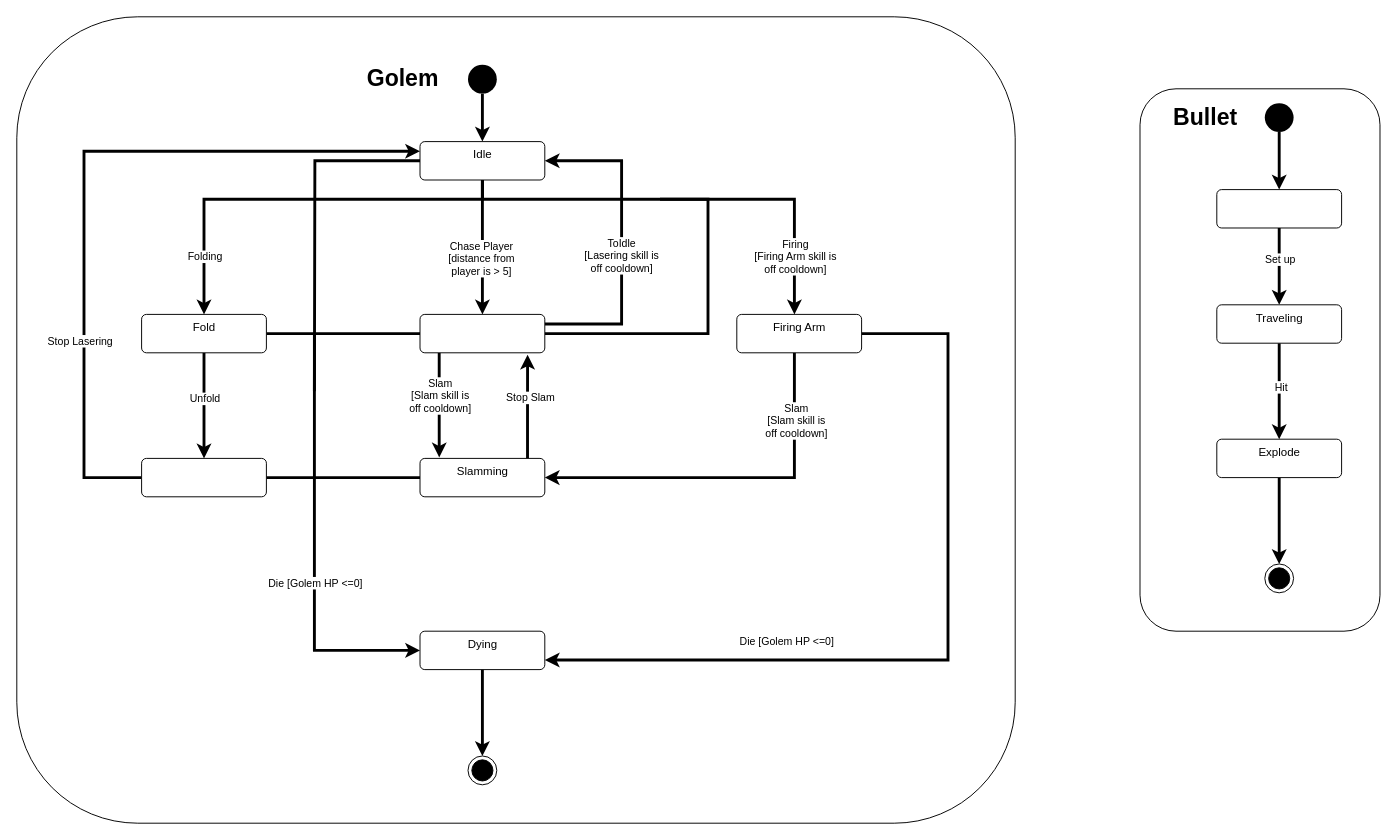
This 1397x840 diagram has some shape labels left out. Each missing label, with the centre of its shape:
"Instantiate" goes at [1279,208].
"Lasering" goes at [203,477].
"Running" goes at [482,333].
